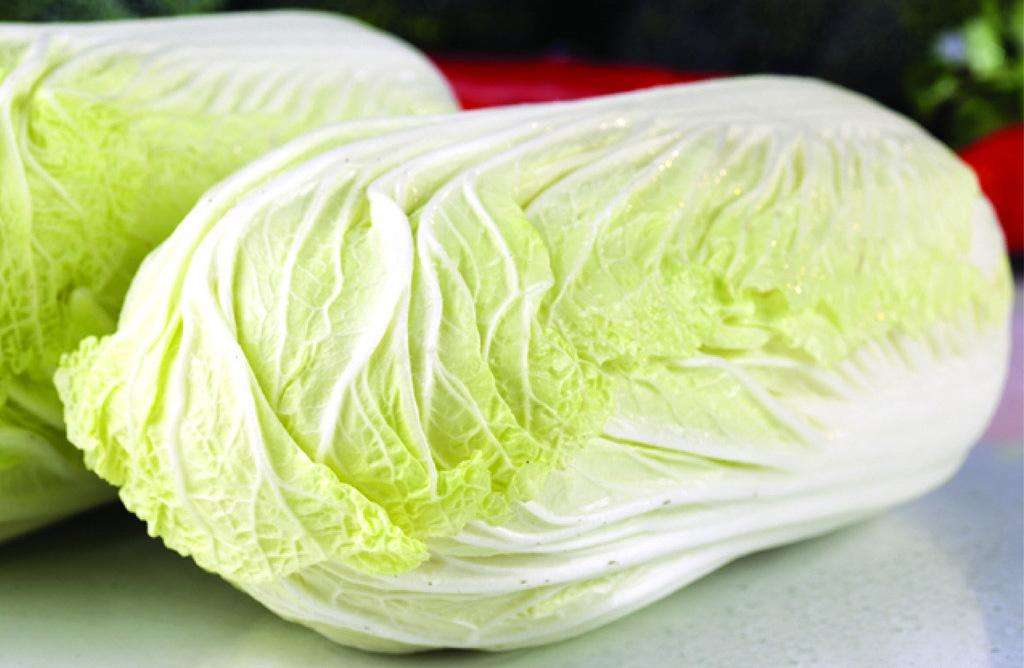baicai: (75, 79, 1004, 654)
